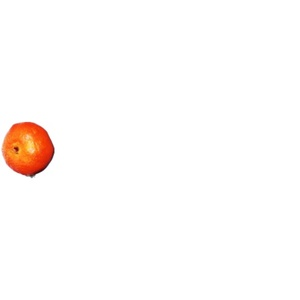tangerina: (2, 123, 55, 177)
